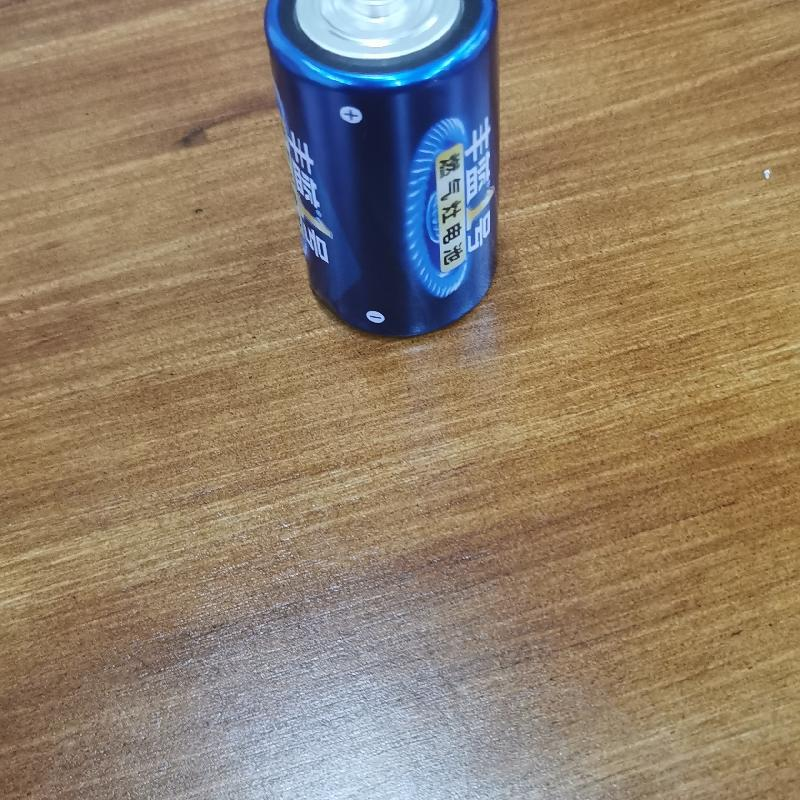battery: (262, 0, 509, 337)
